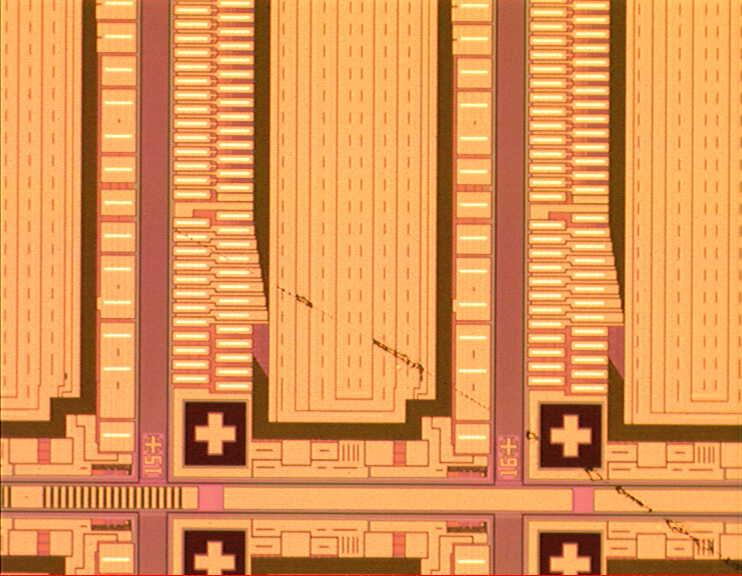SCRATCH: (161, 219, 742, 576)
